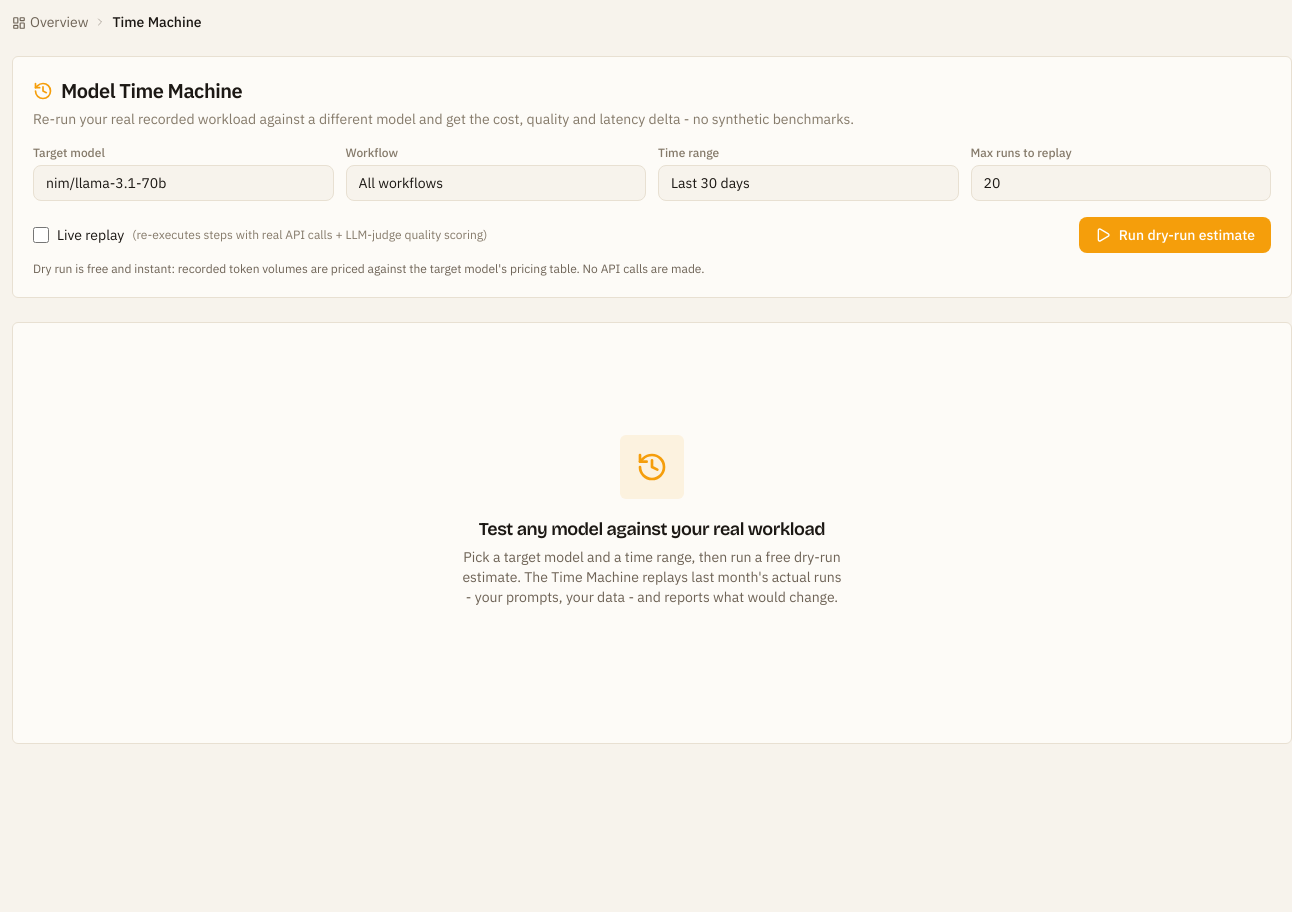
Test: TimeMachinePage › shows the empty-selection state when no recorded workload matched
What coordinates should you click on to do the following:
click the button "Run dry-run estimate"
I would click on:
 (1175, 235)
Its box is x1=1079 y1=217 x2=1271 y2=253.
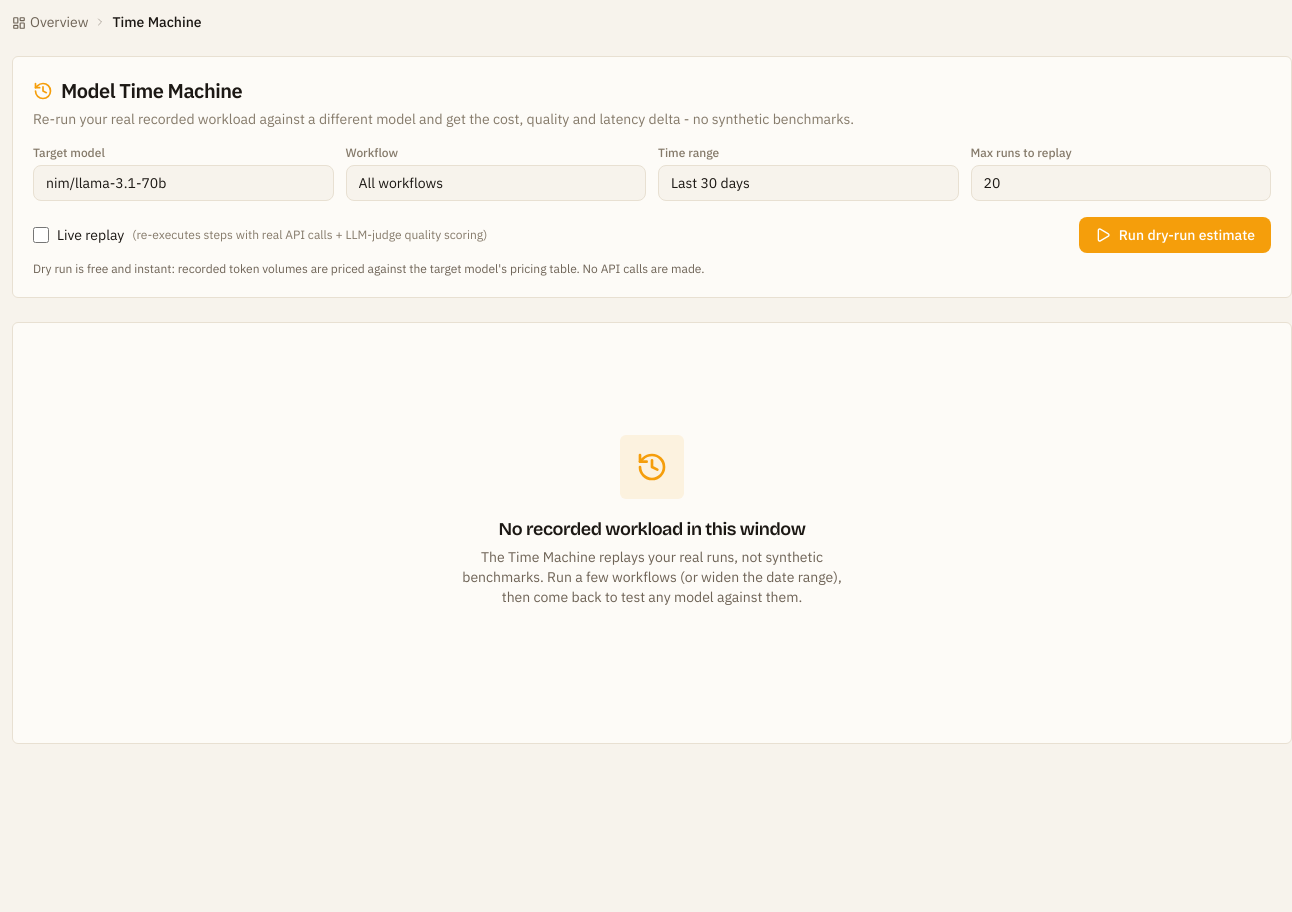
Expected: the heading "No recorded workload in this window" is shown, x1=499 y1=515 x2=805 y2=543
